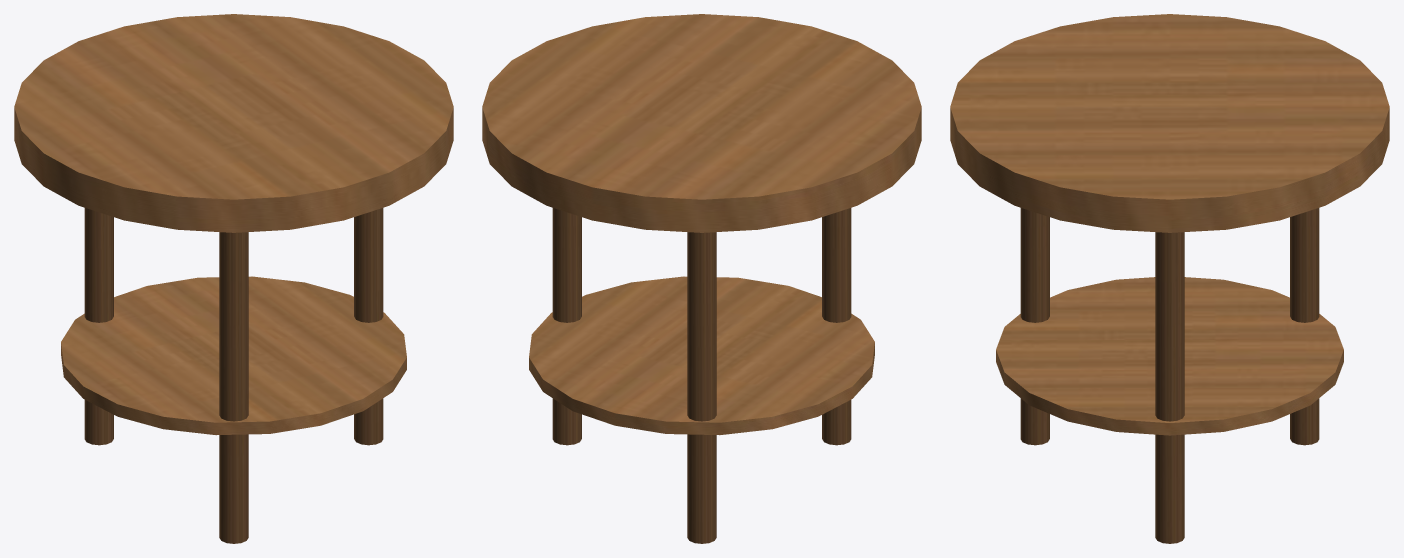
Rendered from side_table.glb.
The picture shows the model from 3 angles, left to right: view 1: azimuth 30°, elevation 25°; view 2: azimuth 150°, elevation 25°; view 3: azimuth 270°, elevation 25°; orthographic projection.
Parts seen in each view (by area): view 1: top.005, shelf.001, leg1.001, leg2.001, leg0.001; view 2: top.005, shelf.001, leg2.001, leg1.001, leg0.001; view 3: top.005, shelf.001, leg0.001, leg1.001, leg2.001.
Part boxes in pixels (bbox=[...]): top.005: bbox=[14, 14, 453, 232]; shelf.001: bbox=[61, 276, 406, 435]; leg1.001: bbox=[219, 232, 248, 543]; leg2.001: bbox=[84, 208, 113, 445]; leg0.001: bbox=[354, 208, 383, 445]; top.005: bbox=[482, 14, 921, 232]; shelf.001: bbox=[529, 276, 874, 435]; leg2.001: bbox=[687, 232, 716, 543]; leg1.001: bbox=[822, 208, 851, 445]; leg0.001: bbox=[552, 208, 581, 445]; top.005: bbox=[950, 14, 1389, 232]; shelf.001: bbox=[996, 277, 1343, 435]; leg0.001: bbox=[1155, 232, 1184, 543]; leg1.001: bbox=[1020, 208, 1049, 445]; leg2.001: bbox=[1290, 208, 1319, 445].
Bounding box in the file's own units: 0.48 × 0.44 × 0.48.
Materials: 2 (2 with a texture image).
